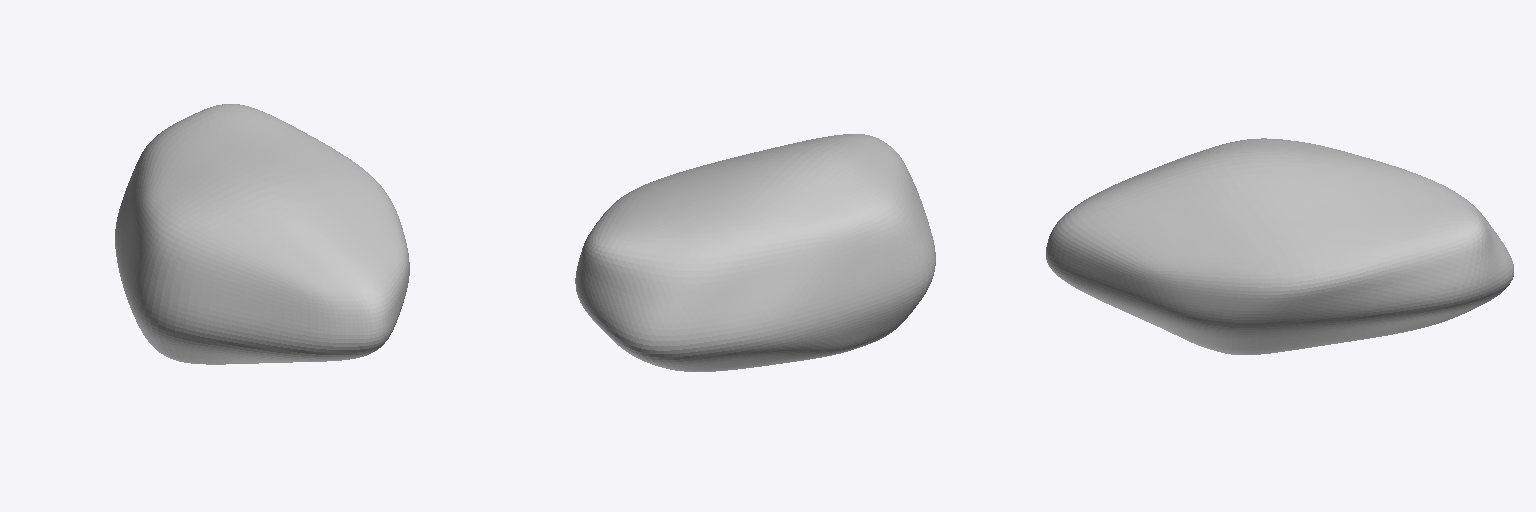
File: rock2.obj
The picture shows the model from 3 angles: view 1: azimuth 30°, elevation 25°; view 2: azimuth 150°, elevation 25°; view 3: azimuth 270°, elevation 25°; orthographic projection.
Parts seen in each view (by area): view 1: Cube; view 2: Cube; view 3: Cube.
Part boxes in pixels (x1,y1,x2,y2): Cube: (115,104,409,364); Cube: (575,134,935,371); Cube: (1046,138,1513,354).
Bounding box in the file's own units: 2.89 × 1.81 × 4.41.